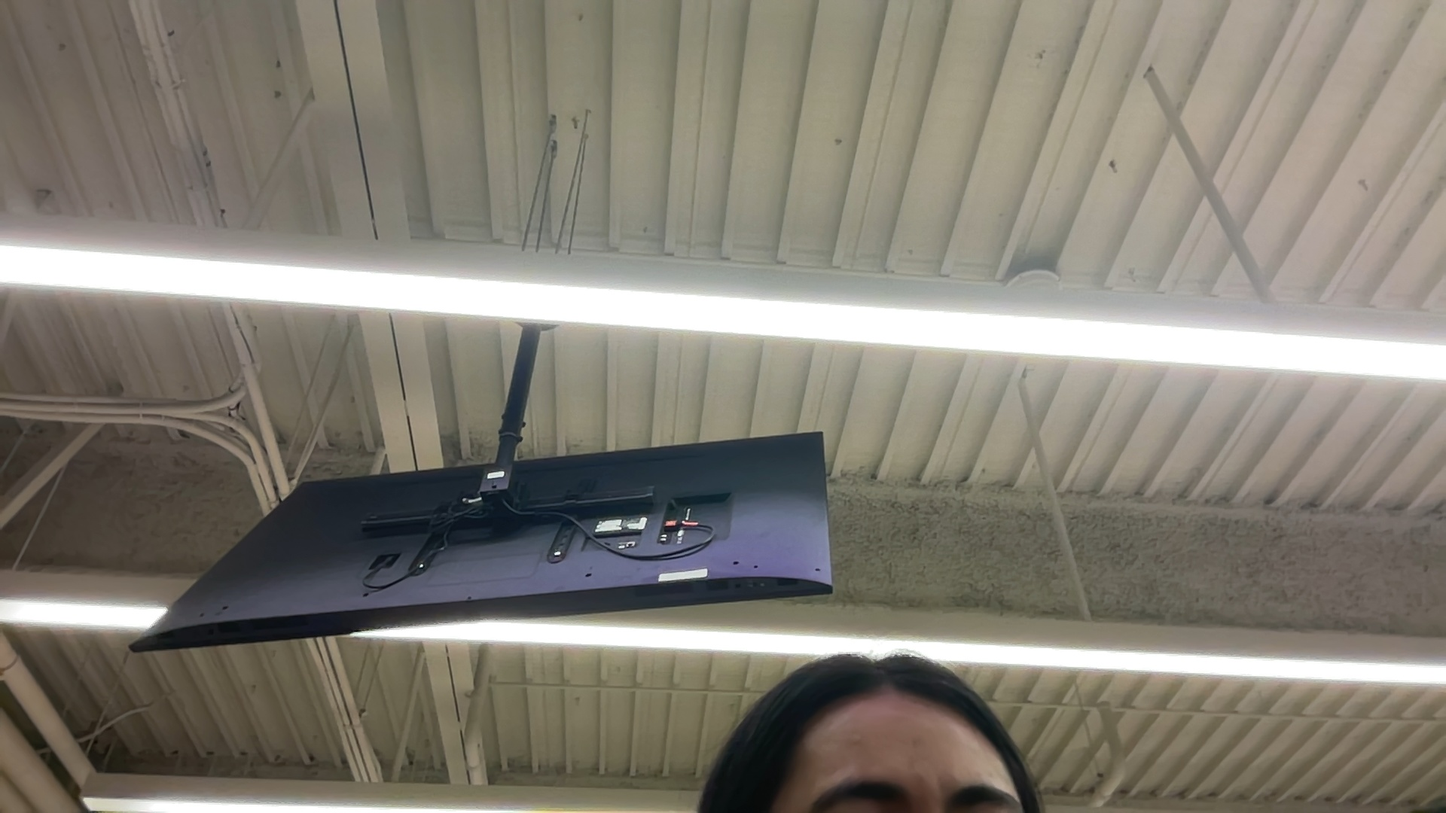Plastic: (4, 400, 279, 612)
